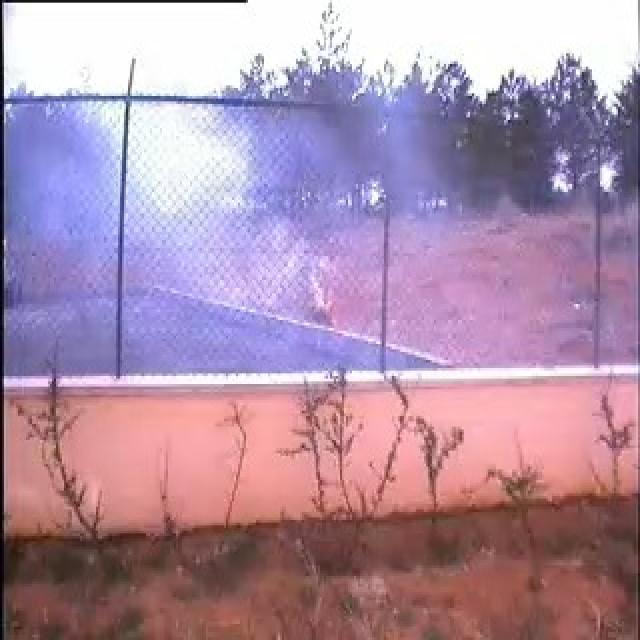Smoke: (46, 100, 356, 360)
